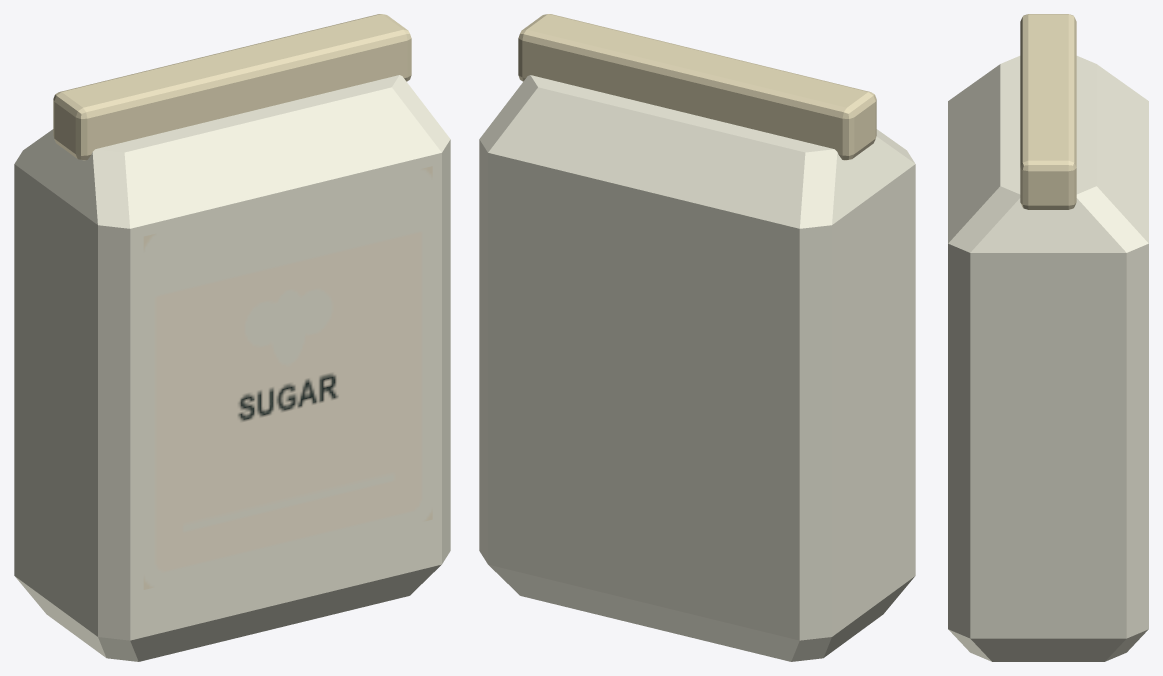
Rendered from sugar.fbx.
The picture shows the model from 3 angles, left to right: view 1: azimuth 30°, elevation 25°; view 2: azimuth 150°, elevation 25°; view 3: azimuth 270°, elevation 25°; orthographic projection. The views are drawn at different scales.
Parts seen in each view (by area): view 1: sugar; view 2: sugar; view 3: sugar.
Part boxes in pixels (x1,y1,x2,y2): sugar: [14, 14, 450, 661]; sugar: [479, 14, 915, 661]; sugar: [948, 14, 1148, 661].
Bounding box in the file's own units: 19 × 27.67 × 10.2.
